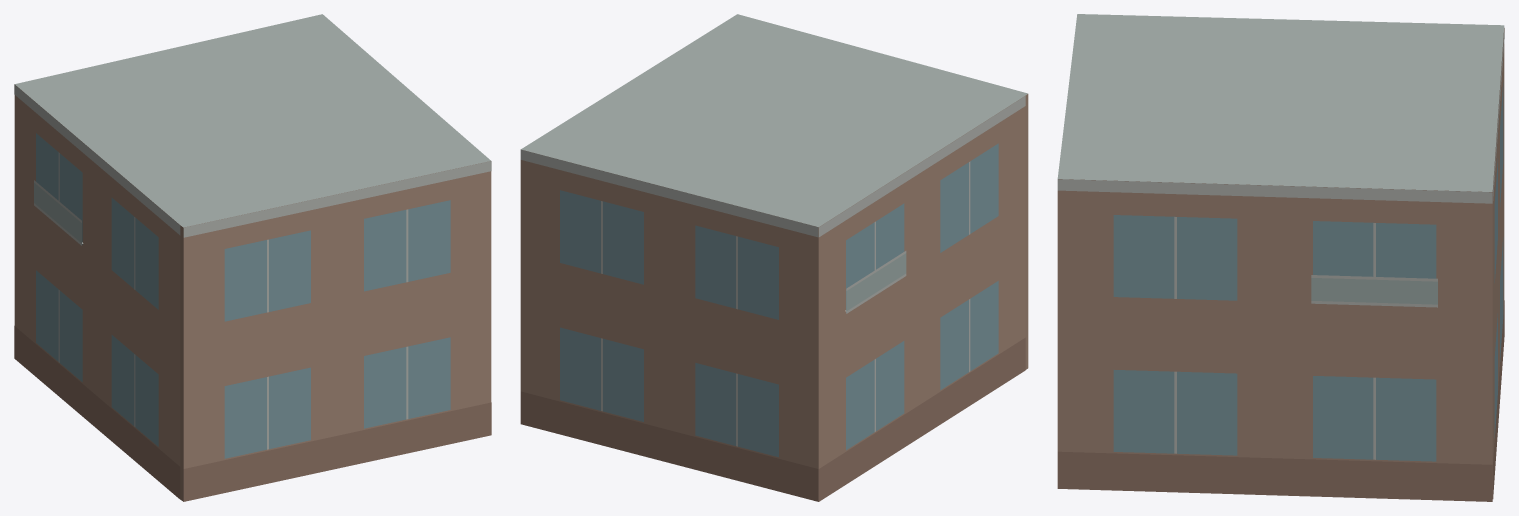
The model's file is survey-upis-32622871.glb.
3 renders of one model, left to right at view 1: azimuth 30°, elevation 25°; view 2: azimuth 150°, elevation 25°; view 3: azimuth 270°, elevation 25°, orthographic. The views are drawn at different scales.
Parts seen in each view (by area): view 1: survey-upis-32622871.tmp; view 2: survey-upis-32622871.tmp; view 3: survey-upis-32622871.tmp.
Part boxes in pixels (<box>): survey-upis-32622871.tmp: <box>14,14,491,501</box>; survey-upis-32622871.tmp: <box>520,14,1028,501</box>; survey-upis-32622871.tmp: <box>1057,14,1504,501</box>.
Bounding box in the file's own units: 8.02 × 6.5 × 8.51.
